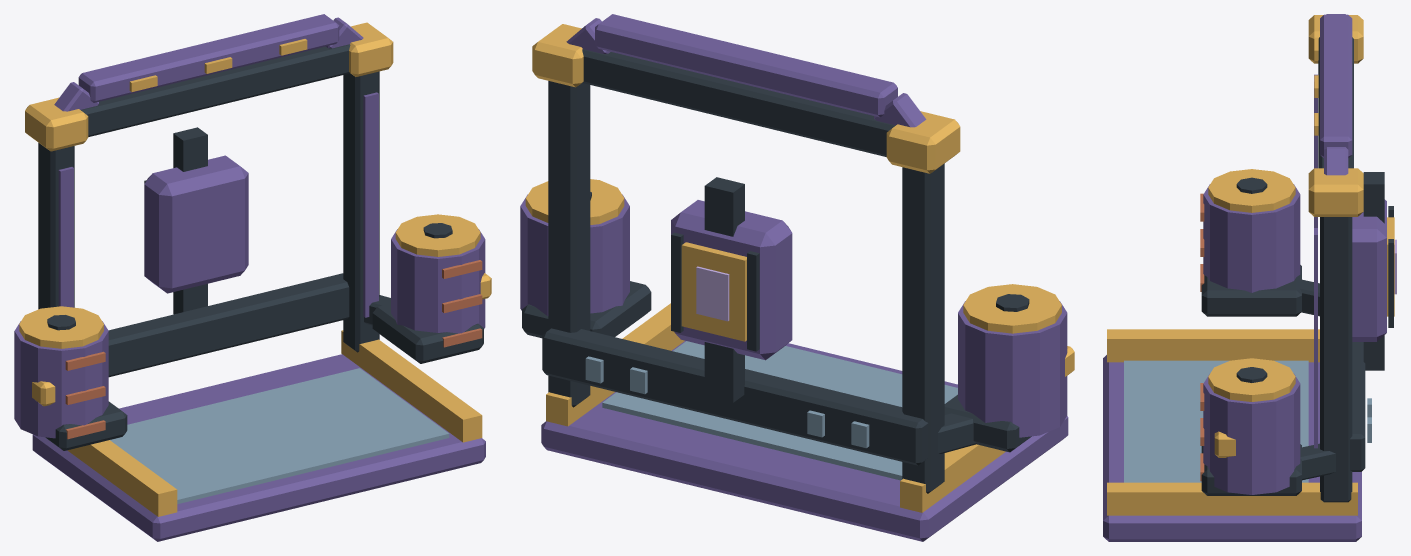
File: story_capture_carrier_v01.glb
3 views of the same model, side by side, from view 1: azimuth 30°, elevation 25°; view 2: azimuth 150°, elevation 25°; view 3: azimuth 270°, elevation 25° (orthographic). The views are drawn at different scales.
Visible parts, largest first — view 1: Open front Octocat capture carrier; view 2: Open front Octocat capture carrier; view 3: Open front Octocat capture carrier.
Boxes of the visible parts, box(x1,y1,x2,y2) form: Open front Octocat capture carrier: box(14, 14, 491, 541); Open front Octocat capture carrier: box(520, 14, 1074, 541); Open front Octocat capture carrier: box(1103, 14, 1396, 541).
Bounding box in the file's own units: 3.37 × 2.62 × 1.82.
1 material, 1 textured.
